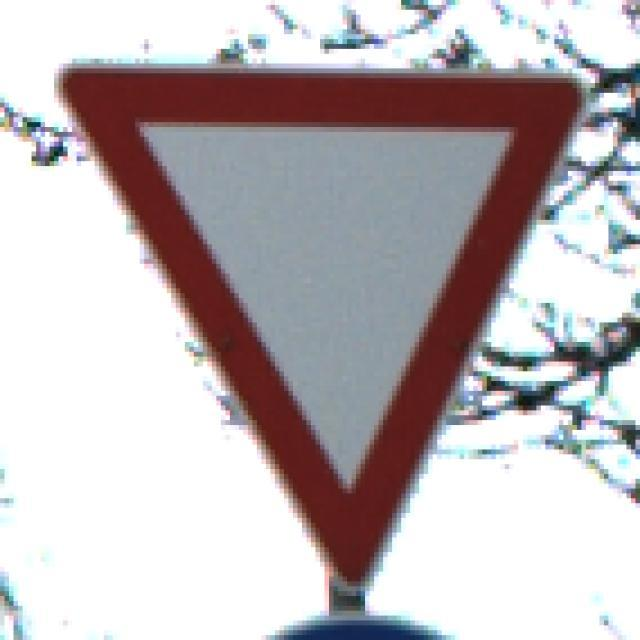give way: (58, 60, 586, 590)
